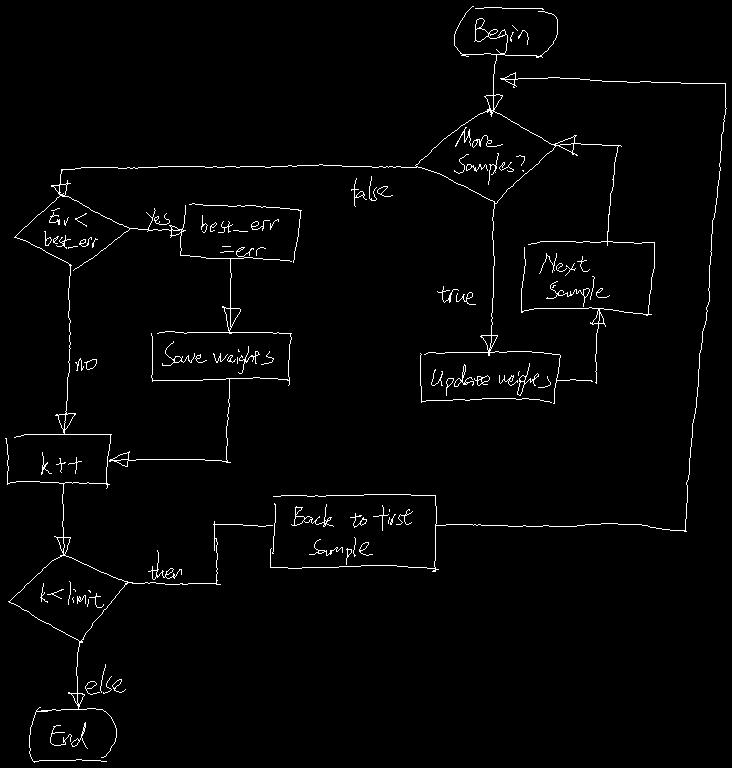arrow: (436, 72, 726, 531), (51, 164, 416, 196), (109, 379, 230, 466), (125, 521, 272, 584), (553, 135, 621, 245), (556, 308, 605, 383), (55, 264, 75, 433), (480, 201, 497, 355), (222, 259, 240, 333), (54, 484, 70, 555), (484, 54, 502, 116), (68, 641, 84, 709), (130, 225, 185, 237)
decision: (415, 108, 555, 203), (8, 553, 128, 642), (14, 193, 130, 270)
process: (270, 494, 438, 571), (521, 241, 654, 315), (151, 331, 291, 385), (420, 351, 560, 403), (180, 203, 301, 262), (5, 434, 111, 488)
terminator: (454, 6, 557, 57), (29, 707, 116, 762)
text: (291, 504, 412, 564), (454, 127, 524, 184), (431, 363, 550, 395), (539, 253, 609, 306), (162, 341, 273, 373), (201, 215, 278, 256), (44, 208, 97, 248), (474, 18, 528, 53), (40, 581, 103, 607), (351, 176, 392, 206), (85, 664, 125, 694), (50, 722, 87, 748), (148, 550, 181, 579), (41, 452, 81, 474), (437, 286, 475, 304), (146, 208, 169, 231), (75, 358, 96, 370)
